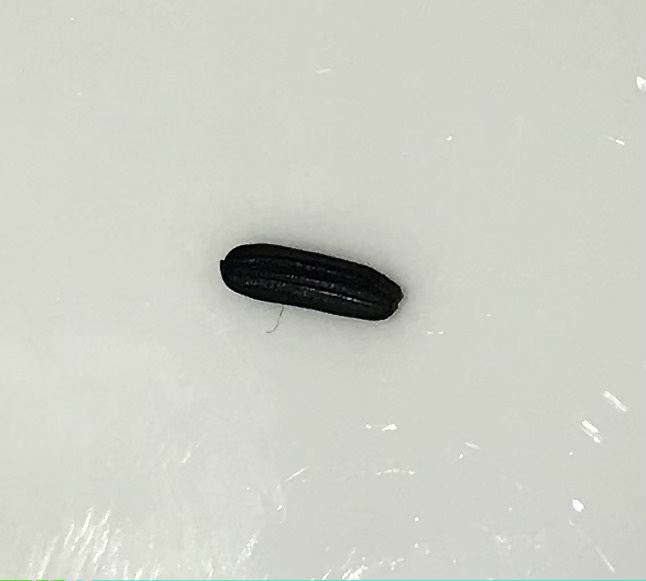Gao lut: (214, 238, 407, 330)
